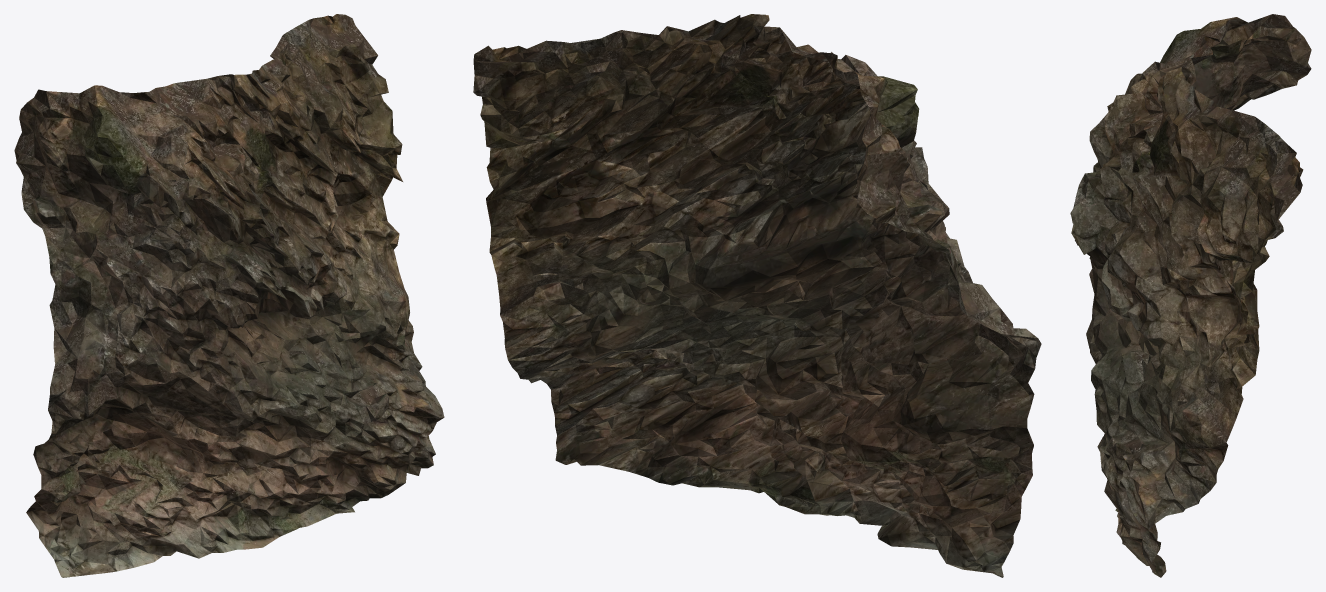
Rendered from mountainside.glb.
3 renders of one model, left to right at view 1: azimuth 30°, elevation 25°; view 2: azimuth 150°, elevation 25°; view 3: azimuth 270°, elevation 25°, orthographic. The views are drawn at different scales.
Visible parts, largest first — view 1: mountainside; view 2: mountainside; view 3: mountainside.
Part boxes in pixels (x1,y1,x2,y2): mountainside: (14, 14, 444, 577); mountainside: (473, 14, 1041, 577); mountainside: (1070, 14, 1311, 577).
Size of the model in its own units: 10.19 by 10.52 by 5.25.
Materials: 1 (1 with a texture image).
